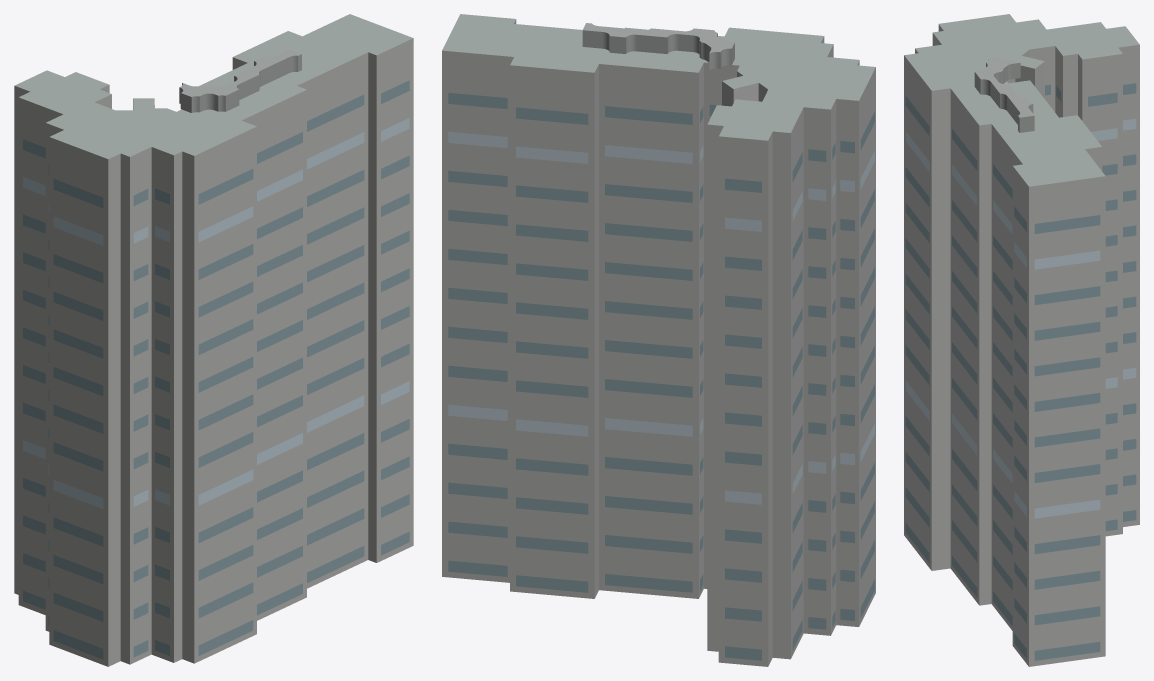
The model's file is fallback-mapo-raemian-prugio-210.glb.
The picture shows the model from 3 angles, left to right: view 1: azimuth 30°, elevation 25°; view 2: azimuth 150°, elevation 25°; view 3: azimuth 270°, elevation 25°; orthographic projection. The views are drawn at different scales.
Visible parts, largest first — view 1: fallback-mapo-raemian-prugio-210; view 2: fallback-mapo-raemian-prugio-210; view 3: fallback-mapo-raemian-prugio-210.
Part boxes in pixels (box(x1,y1,x2,y2)): fallback-mapo-raemian-prugio-210: box(14, 14, 413, 666); fallback-mapo-raemian-prugio-210: box(442, 14, 875, 666); fallback-mapo-raemian-prugio-210: box(904, 14, 1139, 666).
Bounding box in the file's own units: 58.34 × 78 × 33.64.
